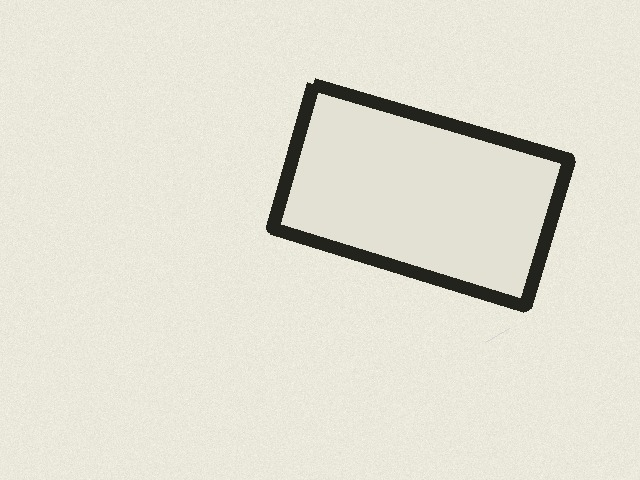parking_area: (272, 84, 569, 306)
